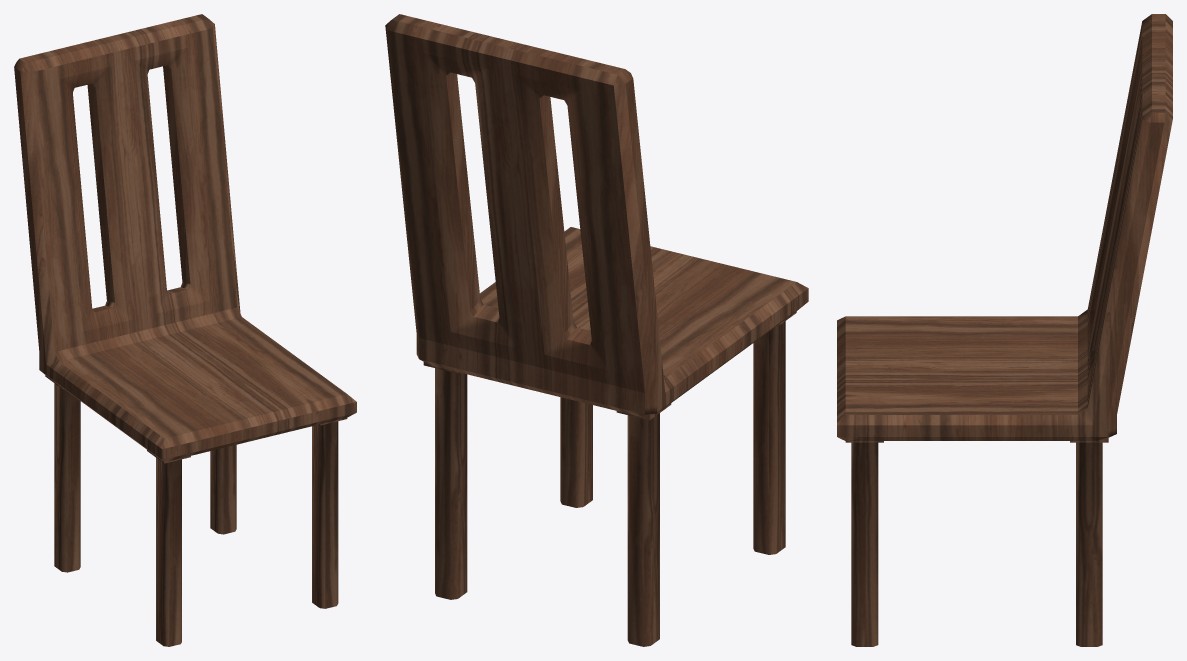
File: wooden_chair.glb
The picture shows the model from 3 angles, left to right: view 1: azimuth 30°, elevation 25°; view 2: azimuth 150°, elevation 25°; view 3: azimuth 270°, elevation 25°; orthographic projection. The views are drawn at different scales.
Parts seen in each view (by area): view 1: WoodenChair; view 2: WoodenChair; view 3: WoodenChair.
Boxes of the visible parts, left/top/right/bottom form: WoodenChair: left=14, top=14, right=356, bottom=646; WoodenChair: left=385, top=14, right=808, bottom=646; WoodenChair: left=837, top=14, right=1172, bottom=646.
Bounding box in the file's own units: 0.4953 × 1.18 × 0.6703.
1 material, 1 textured.
